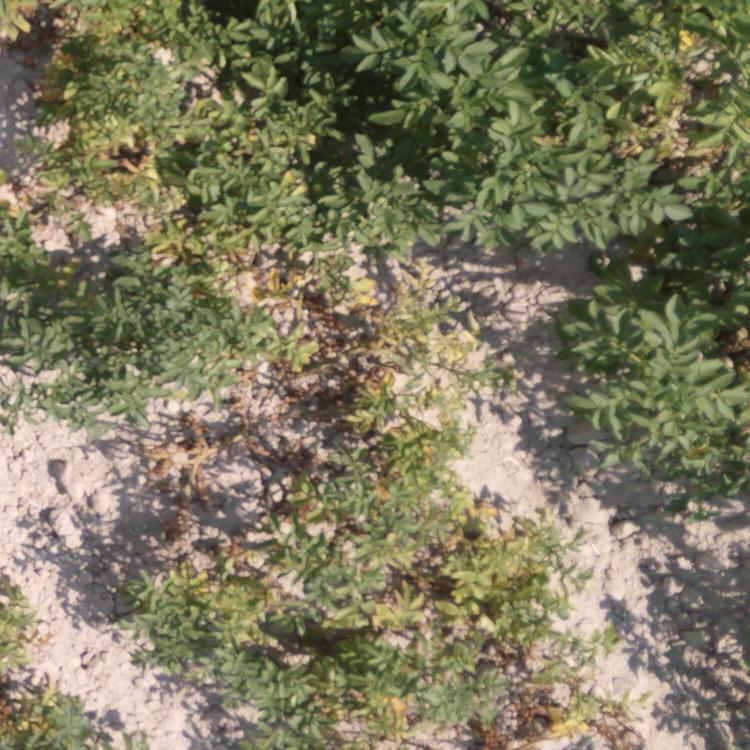healthy: (316, 89, 739, 245), (184, 1, 750, 94), (1, 233, 236, 413), (577, 258, 750, 499)
stressed: (254, 257, 485, 506), (207, 516, 423, 744), (430, 516, 608, 750), (1, 4, 180, 231), (182, 86, 322, 251), (1, 577, 72, 742), (111, 556, 212, 663), (165, 427, 236, 473)
